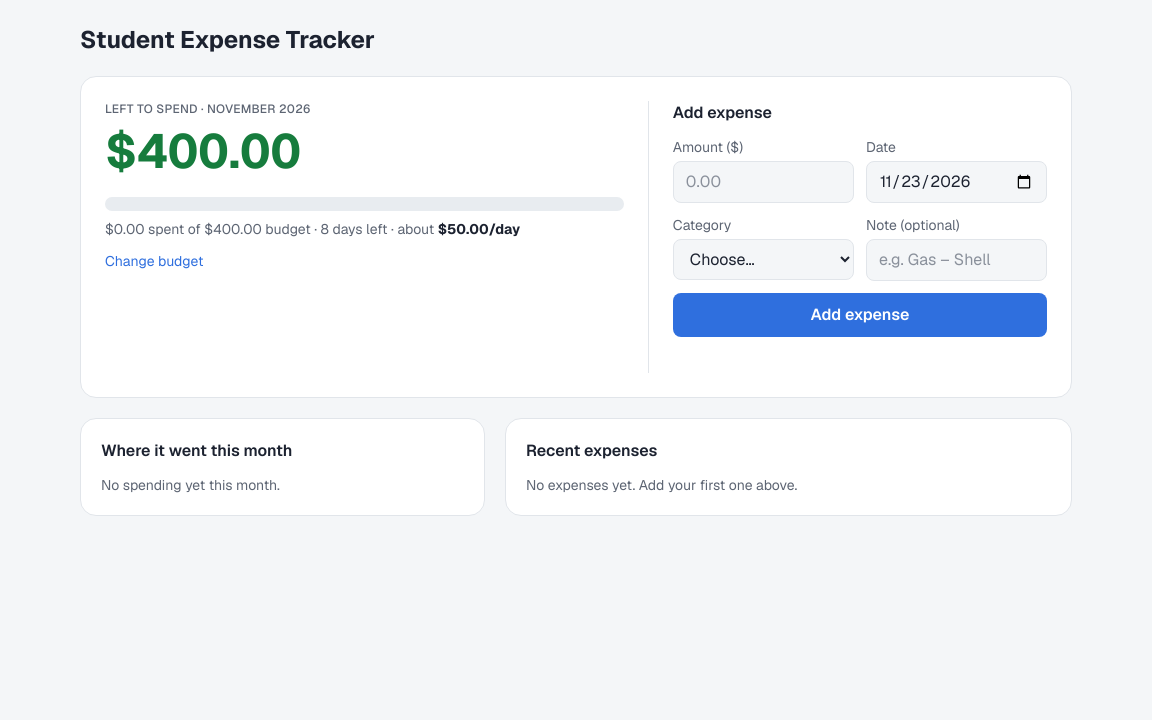
S2: monthly budget › S2-AC1: subtracts the expense and shows the new remaining budget
Check: the element with test id "budget-summary" shows "$400.00", box [105, 120, 301, 182]
Type "12.50" into the field labelled "Amount ($)" at (763, 182), box [673, 161, 854, 203]
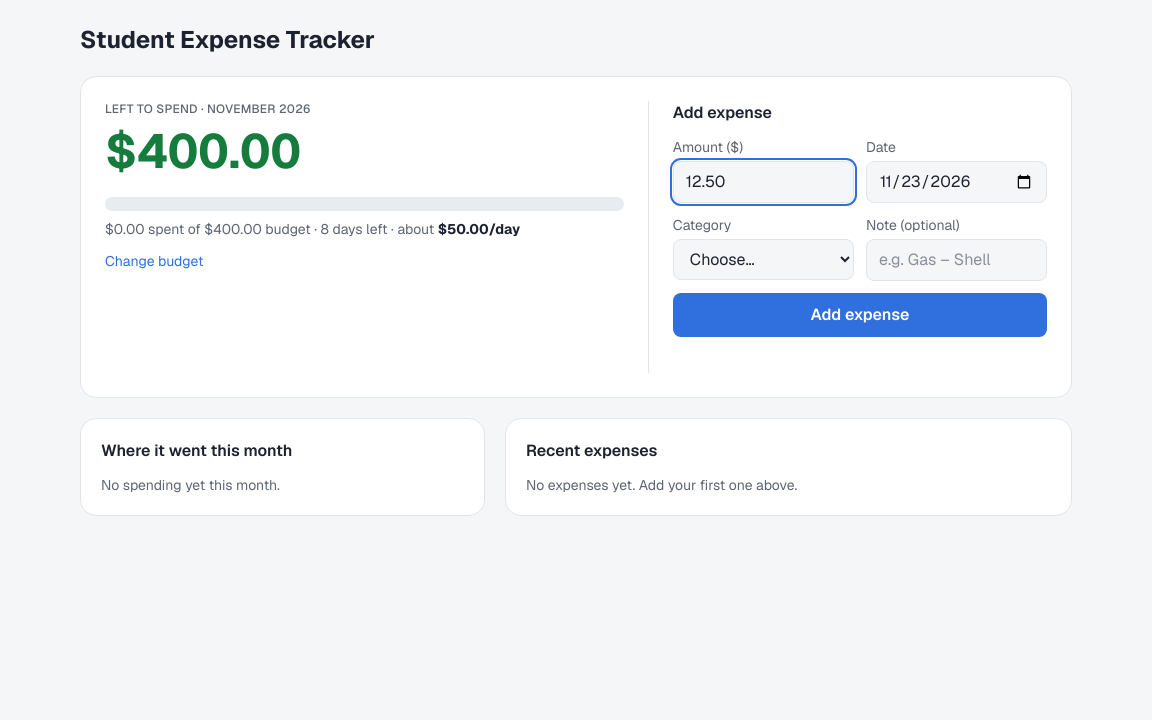
Select "Food" in the dropdown labelled "Category" at (763, 260), box [673, 239, 854, 280]
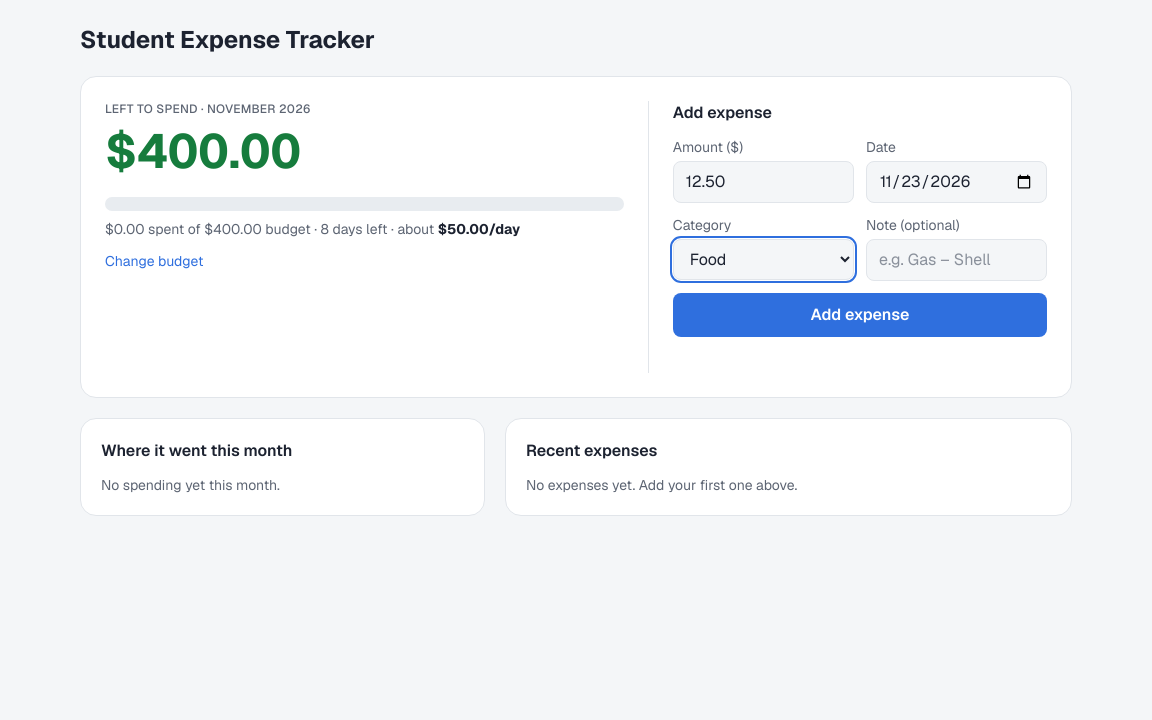
Click the button "Add expense" at (860, 315), box [673, 293, 1047, 337]
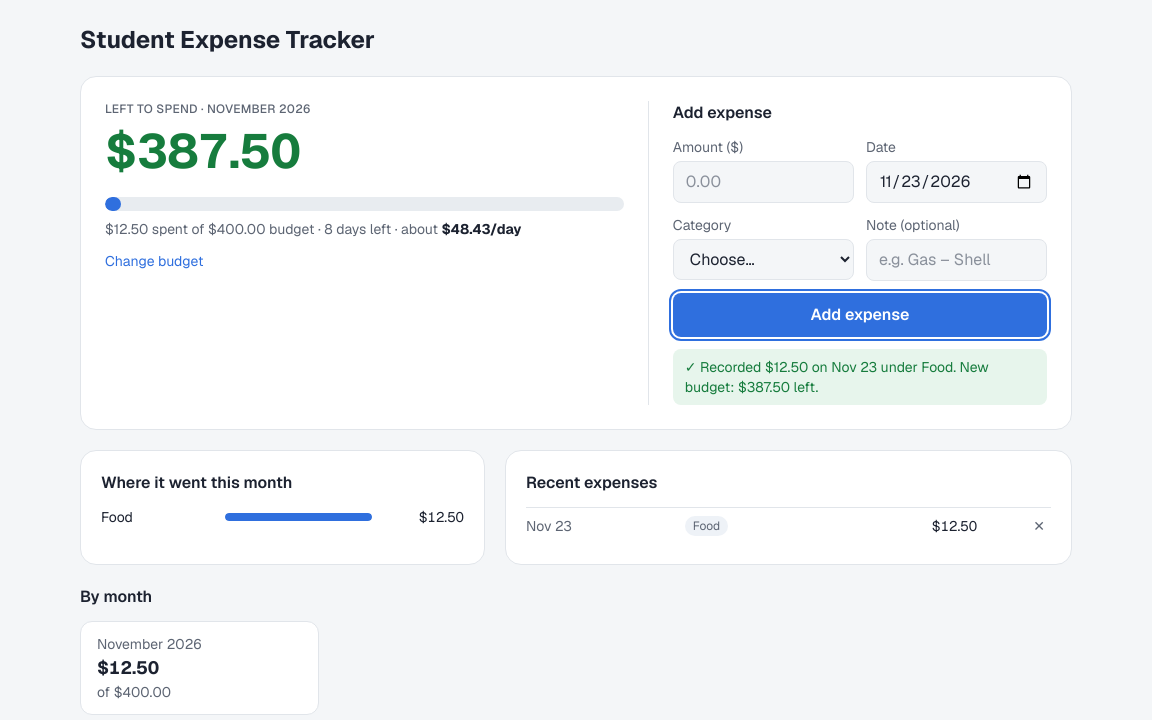
Check: the message shows "New budget: $387.50 left.", box [685, 358, 989, 396]
Check: the element with test id "budget-summary" shows "$387.50", box [105, 120, 301, 182]
Check: the element with test id "budget-summary" shows "$12.50 spent of $400.00 budget", box [105, 101, 624, 271]
